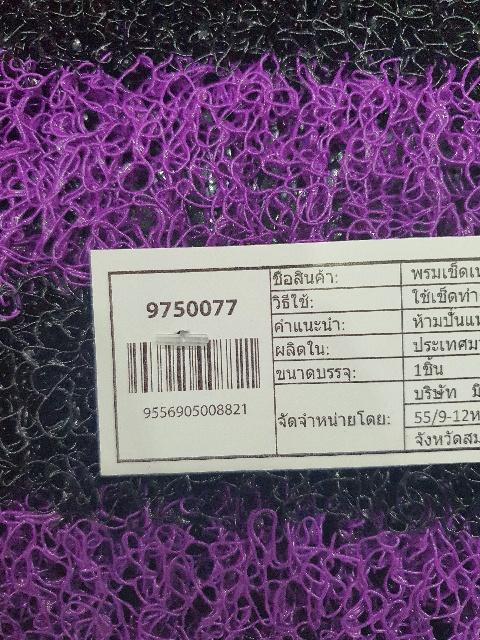Barcode: (118, 325, 272, 427)
